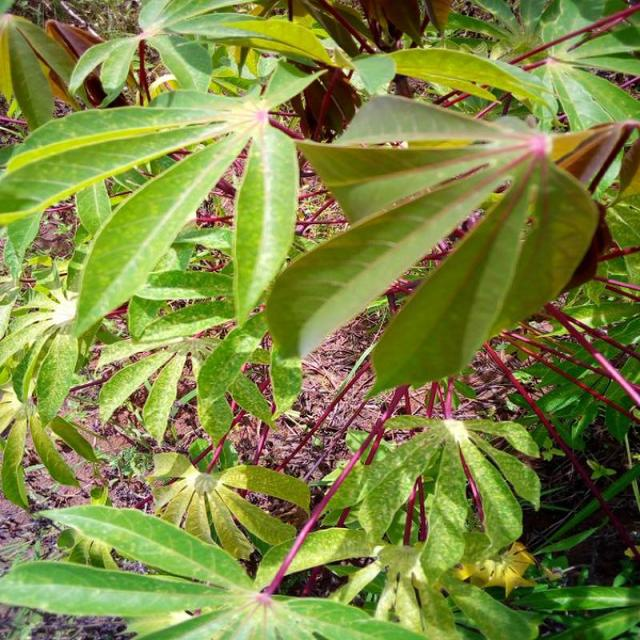cassava leaf: (0, 2, 638, 637), (265, 93, 635, 416)
